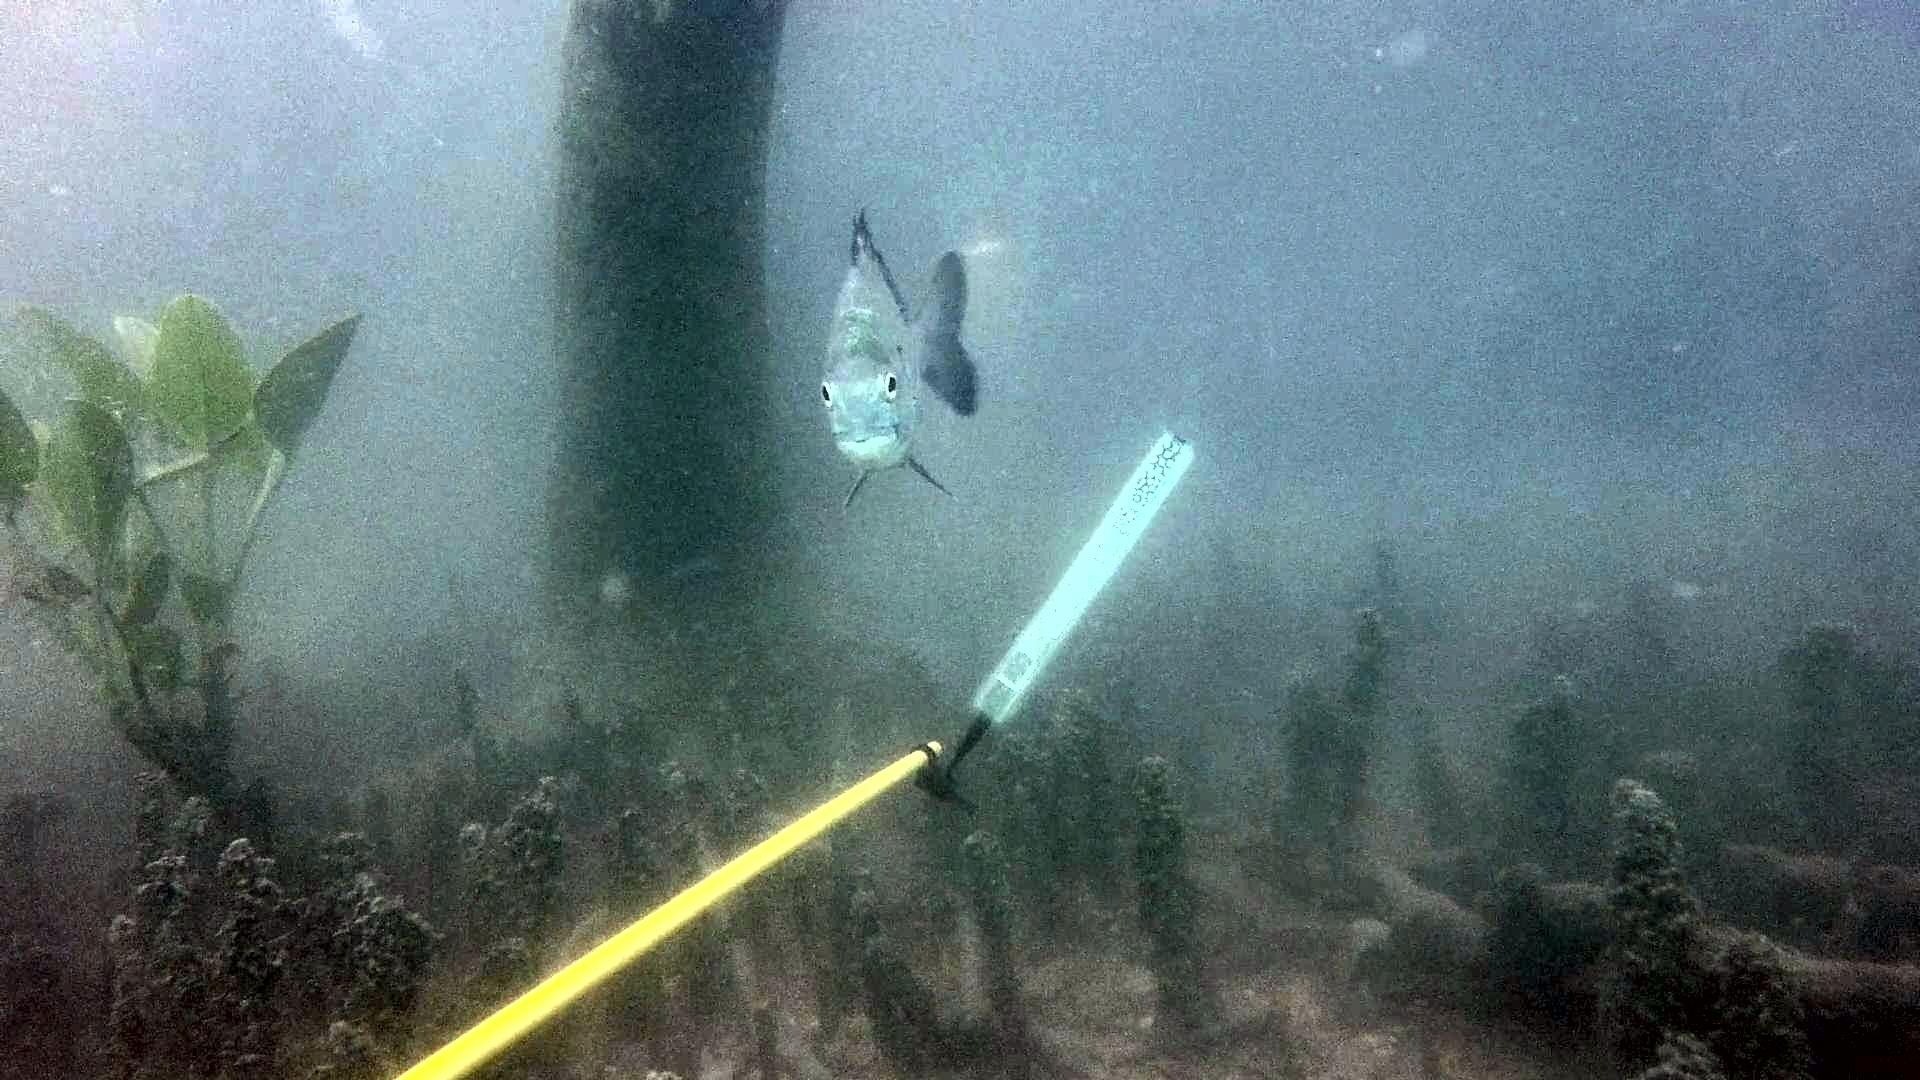acanthopagrus palmaris: (812, 198, 993, 517)
